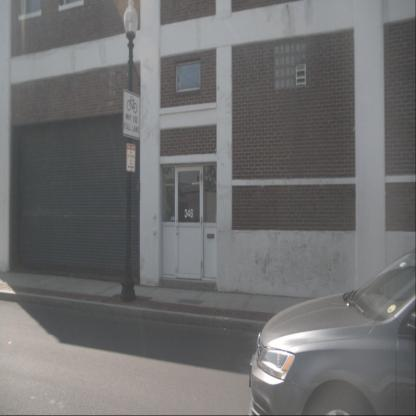vehicle-car: (249, 246, 415, 415)
